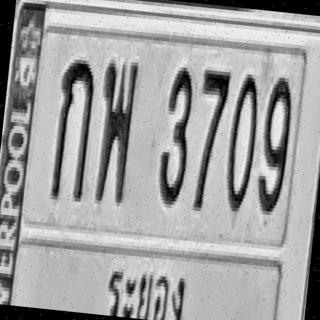A01: (49, 55, 96, 202)
A30: (92, 56, 139, 203)
N00: (222, 70, 262, 212)
N03: (156, 62, 197, 206)
N07: (189, 66, 231, 212)
N09: (255, 73, 295, 216)
P53: (100, 262, 190, 320)
